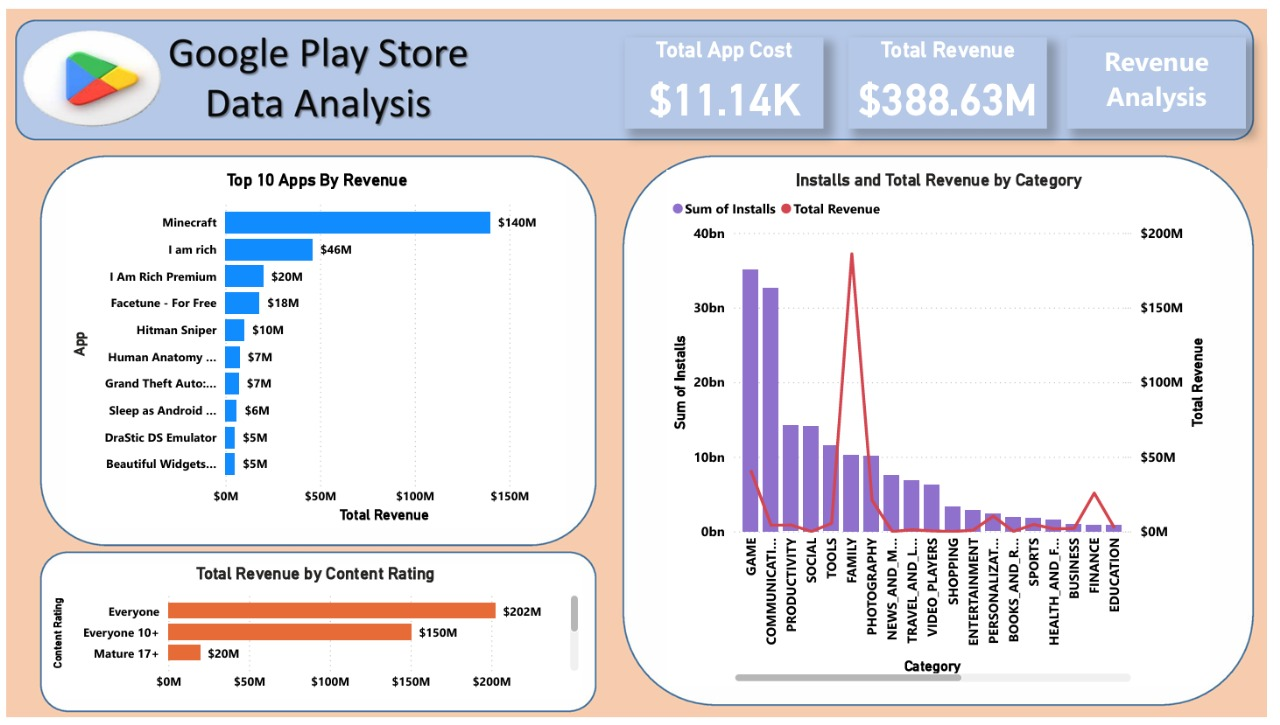

What the dashboard file says about the page in this screenshot:
{"tool":"powerbi","page":{"name":"Revenue","canvas":[1280,720],"ordinal":1},"visuals":[{"type":"clusteredBarChart","title":"Top 10 Apps By Revenue","fields":{"Y":["googleplaystore.Total Revenue"],"Category":["googleplaystore.App"]},"box":[60.4,163.3,509.1,363.6],"z":0},{"type":"clusteredBarChart","fields":{"Category":["googleplaystore.Content Rating"],"Y":["googleplaystore.Total Revenue"]},"box":[41.2,562.6,543.4,138.6],"z":1000},{"type":"lineStackedColumnComboChart","title":"Installs and Total Revenue by Category","fields":{"Category":["googleplaystore.Category"],"Y2":["googleplaystore.Total Revenue"],"Y":["Sum(googleplaystore.Installs)"]},"box":[669.9,163.2,552.2,525.2],"z":2000},{"type":"textbox","box":[1076.1,28.2,181.6,93.3],"z":3000},{"type":"card","title":"Total App Cost","fields":{"Values":["googleplaystore.Total App Cost"]},"box":[627,28.2,202.5,93.3],"z":4000},{"type":"card","title":"Total Revenue","fields":{"Values":["googleplaystore.Total Revenue"]},"box":[854,28.2,202.5,93.3],"z":5000}]}

Visuals, with their boxes in screenshot pixels (x1, y1, x2, y2), scaled from the page's 1280x720 canvas onto the 1280x725 screenshot:
"Top 10 Apps By Revenue" clusteredBarChart: BBox(60, 164, 570, 531)
clusteredBarChart - googleplaystore.Content Rating x googleplaystore.Total Revenue: BBox(41, 567, 585, 706)
"Installs and Total Revenue by Category" lineStackedColumnComboChart: BBox(670, 164, 1222, 693)
textbox: BBox(1076, 28, 1258, 122)
"Total App Cost" card: BBox(627, 28, 830, 122)
"Total Revenue" card: BBox(854, 28, 1056, 122)
